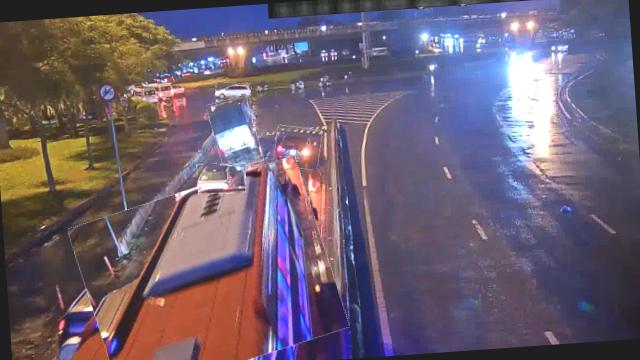Bus: (72, 166, 342, 360)
Car: (272, 124, 323, 171), (195, 161, 246, 195), (214, 80, 251, 103)
Truck: (208, 95, 261, 169)
